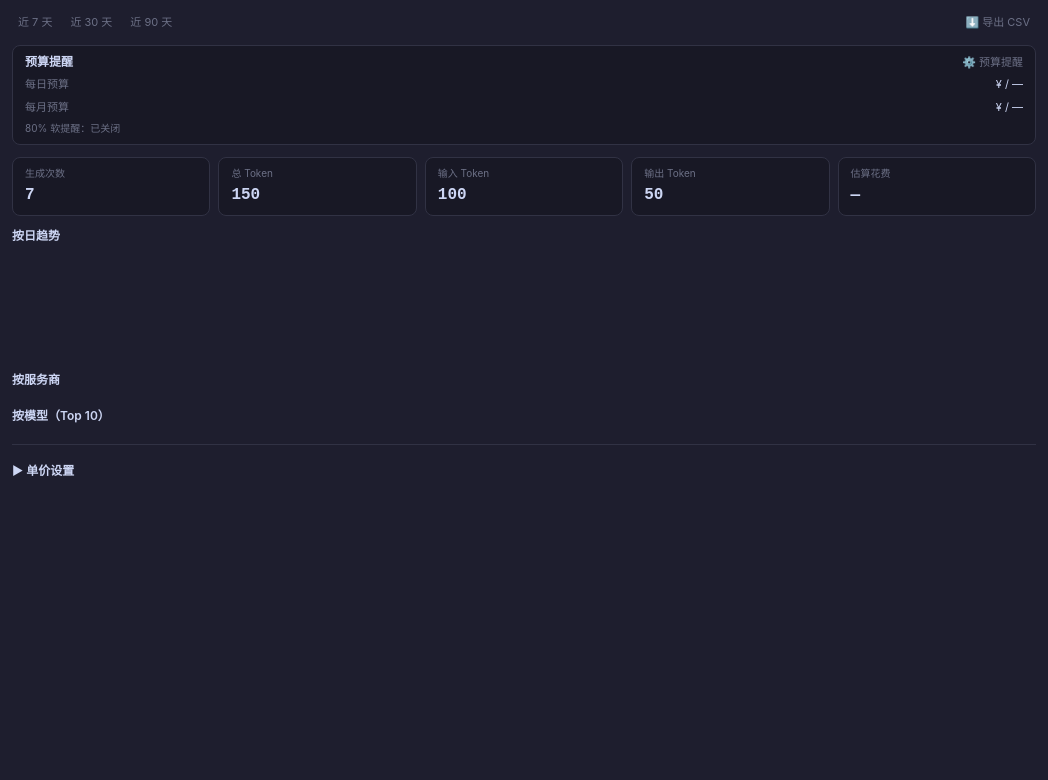
Scenario: 定价表的模型清单：逐渲染重读收干＋两条到货的路都有出口（这一处不挂旧值横幅，理由见闸门头部） › P2 正向对照：这一格确实重挂载就重读（P1 那条"不多发"不是恒绿的）
The width and height of the screenshot is (1048, 780).
Click the button "▶ 单价设置". click: (43, 471)
box: [12,463,74,479]
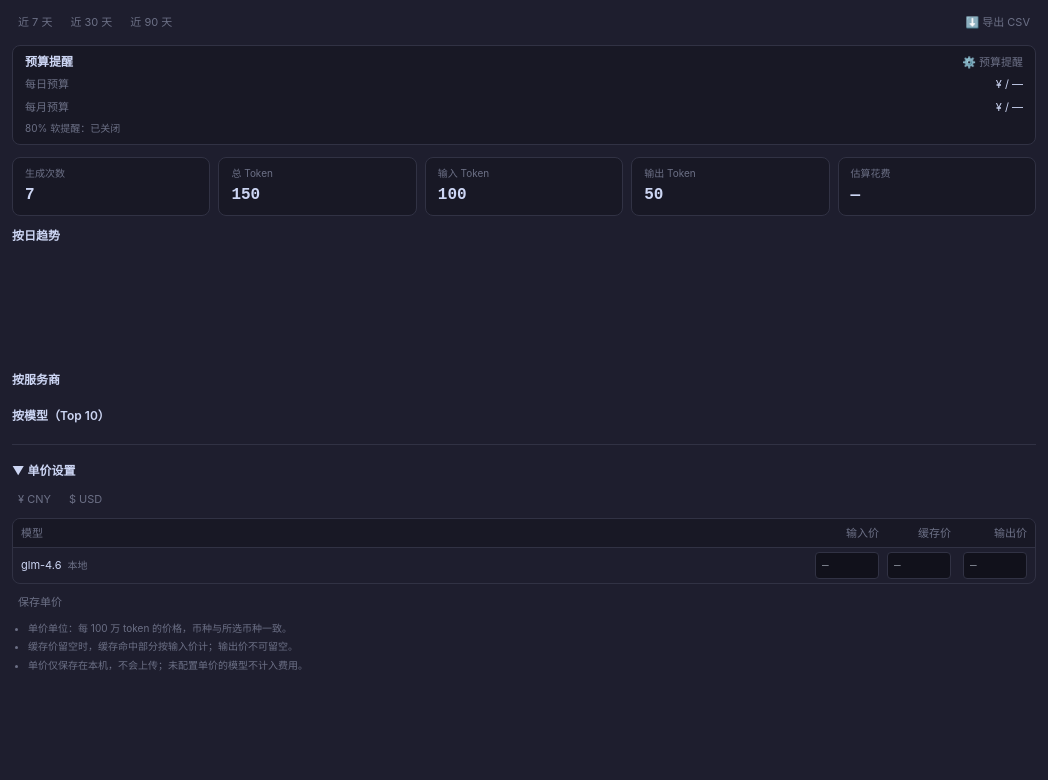
Click the button "▼ 单价设置". click: (44, 471)
box: [12,463,76,479]
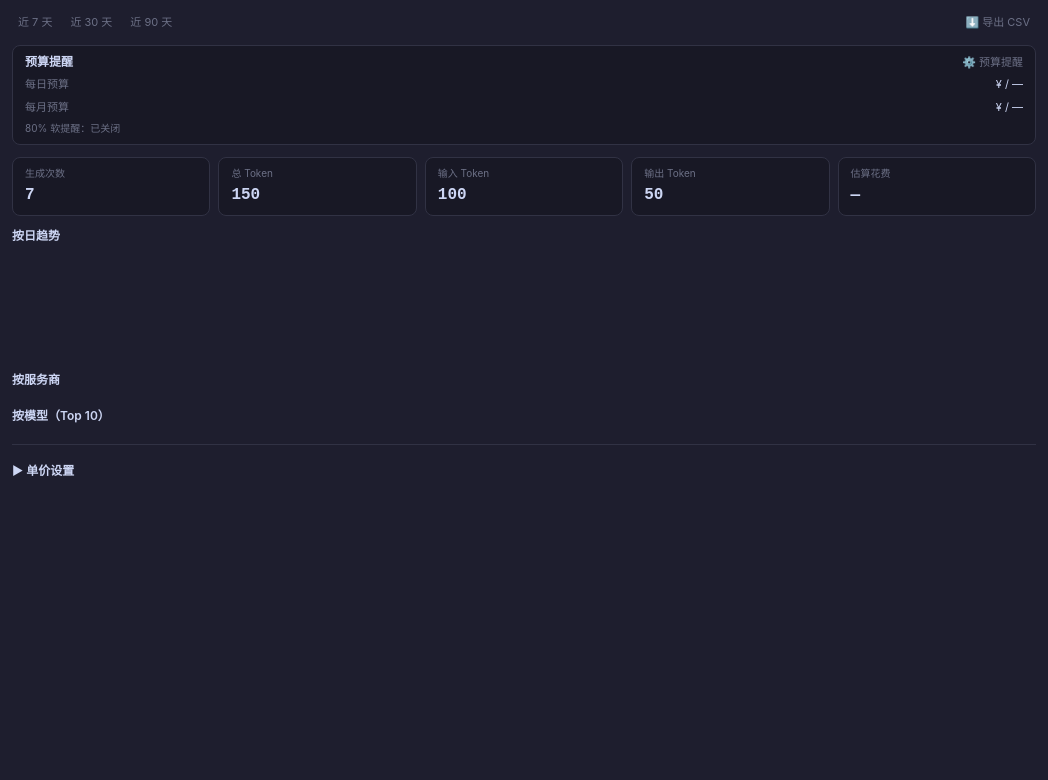
Click the button "▶ 单价设置". click: (43, 471)
box: [12,463,74,479]
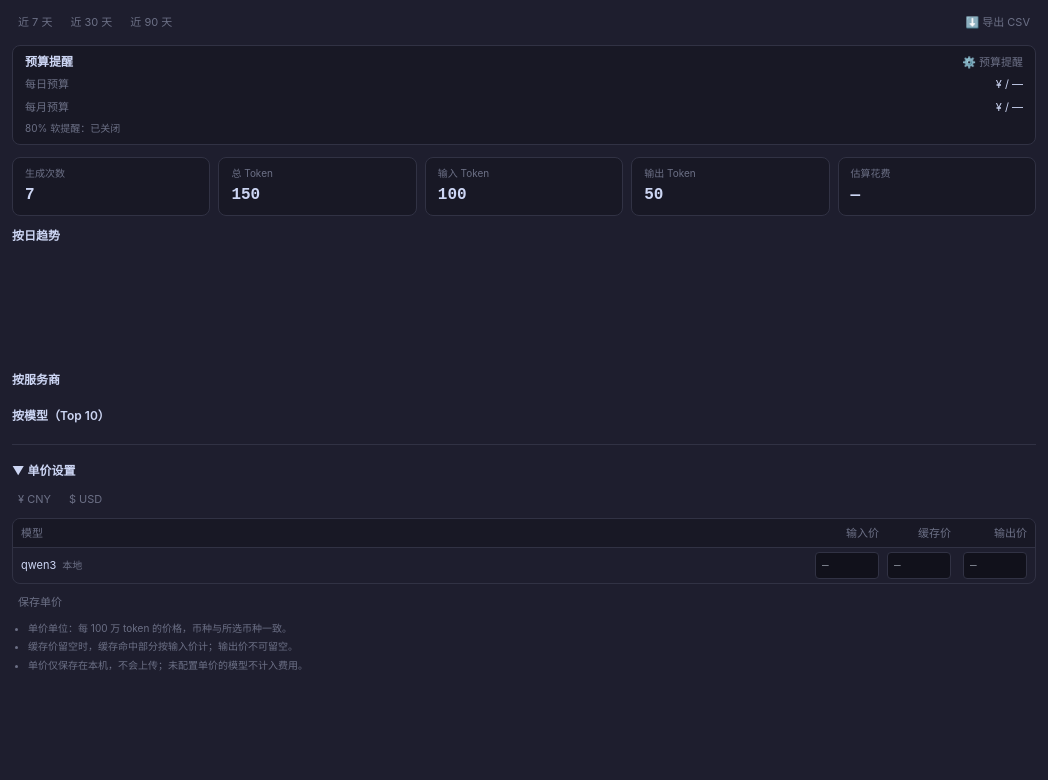
Expected: the text "glm-4.6" is not shown
Result: the text "qwen3" is shown at [21,558,56,572]
